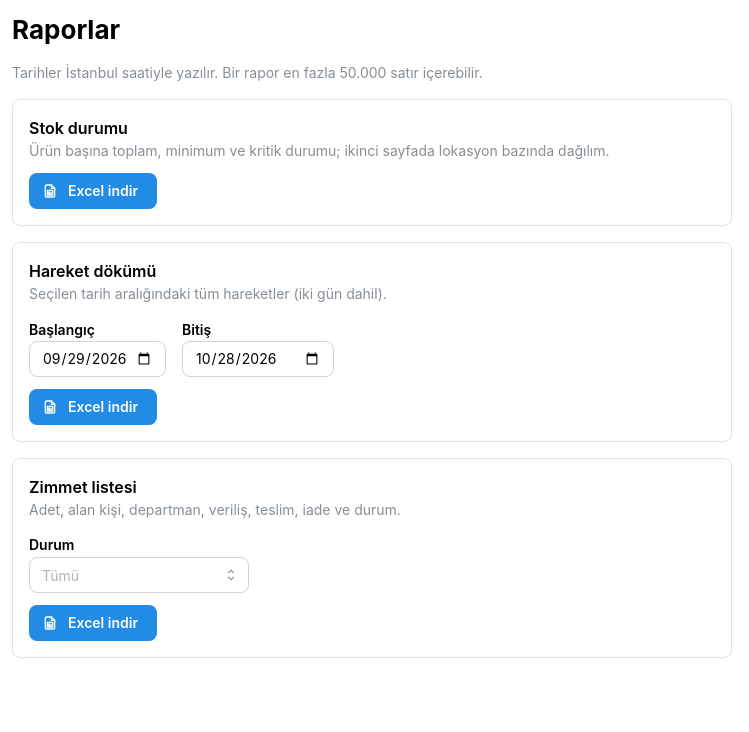
ReportsPage › explains the row limit
The width and height of the screenshot is (749, 732).
Click the button "Excel indir" below "Başlangıç" at x=93, y=407, box [29,389,157,425]
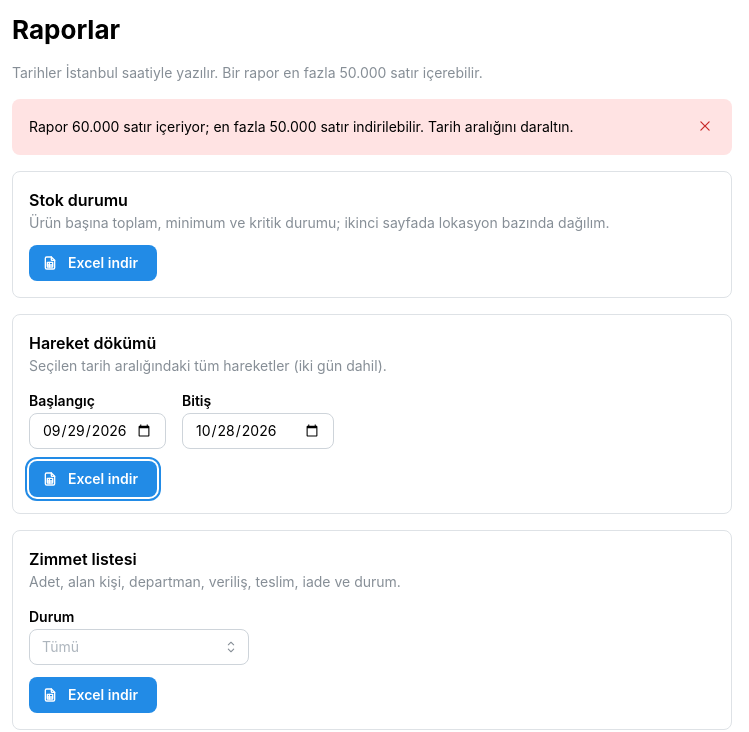
Now the text "Tarih aralığını daraltın" is shown, box [29,118,574,135]
